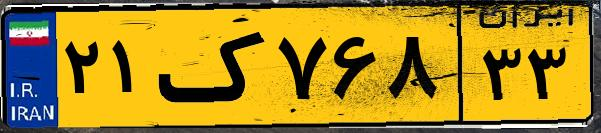1: (110, 28, 158, 98)
2: (57, 26, 110, 100)
3: (475, 38, 525, 113), (525, 38, 570, 115)
6: (330, 28, 385, 110)
7: (270, 28, 330, 110)
8: (385, 28, 445, 110)
ک: (158, 12, 270, 120)
